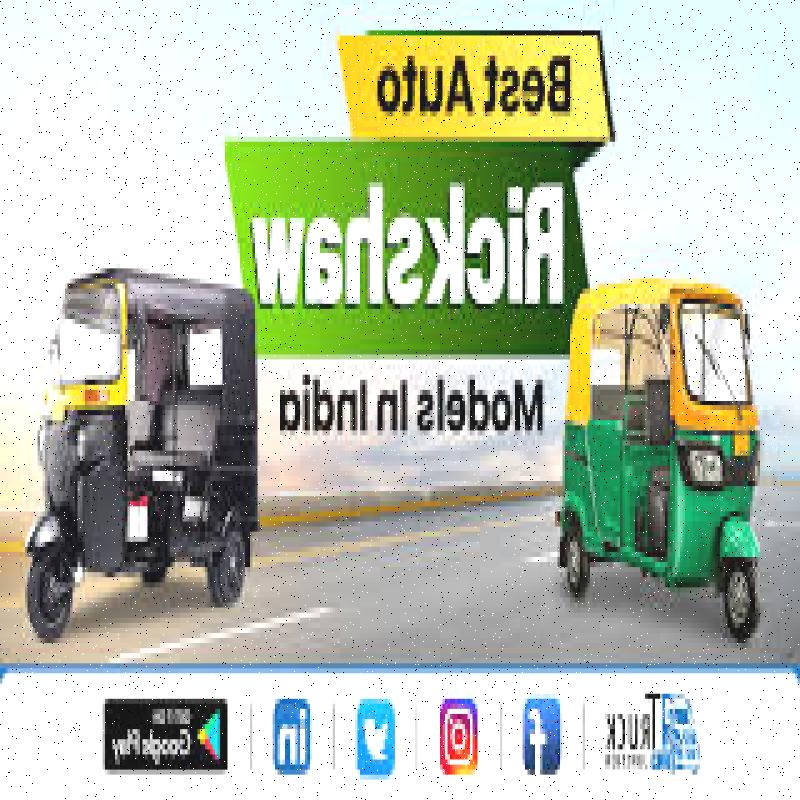bike: (19, 294, 256, 624), (562, 281, 757, 620)
